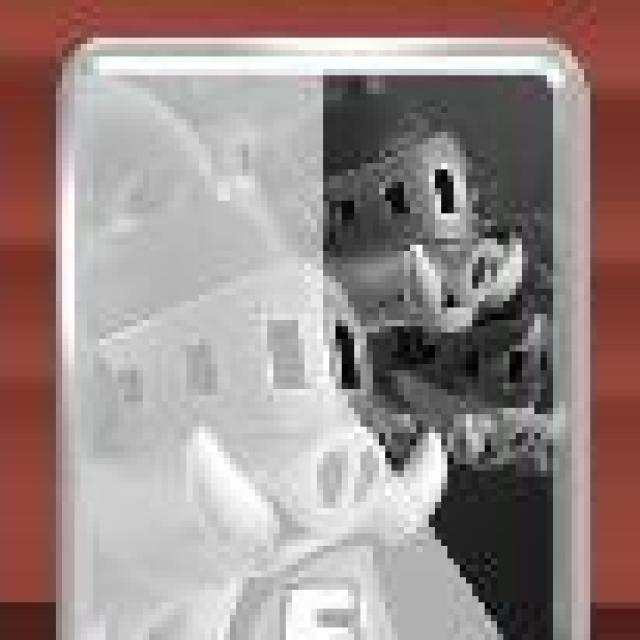Royal_Hogs: (50, 40, 596, 640)
